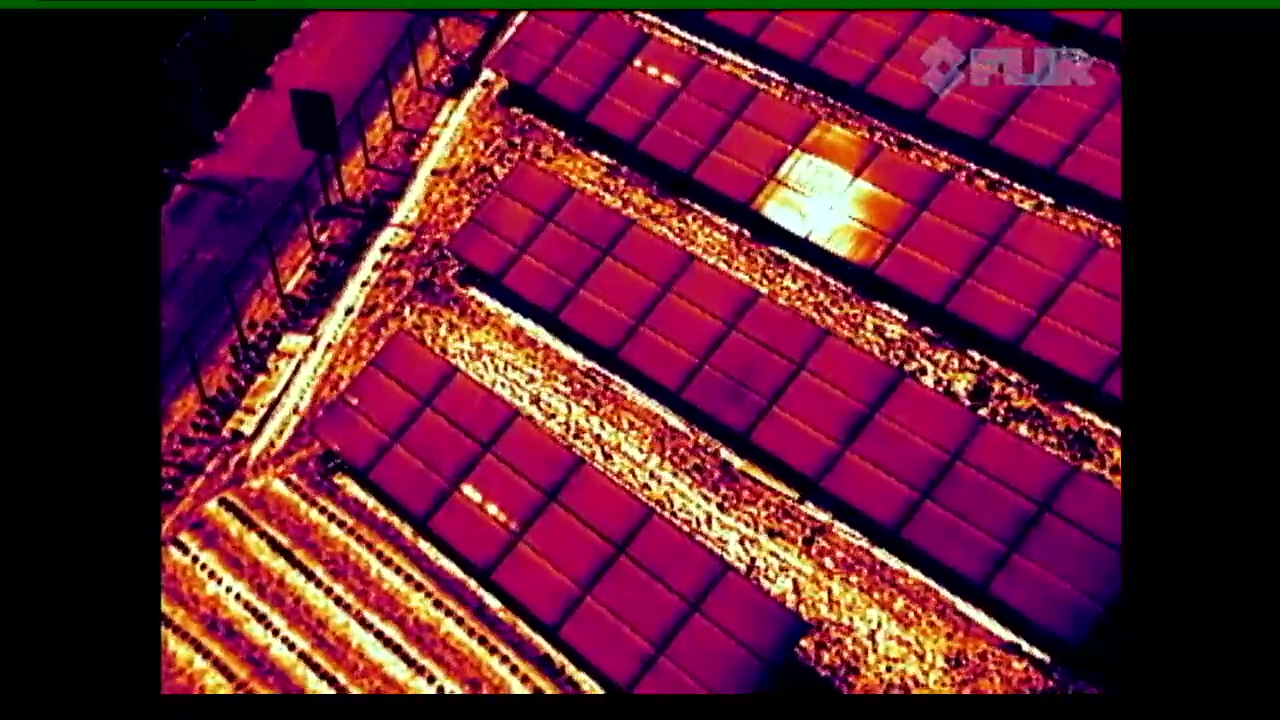hotspot: (416, 409, 586, 581), (303, 331, 457, 469), (579, 37, 697, 138)
